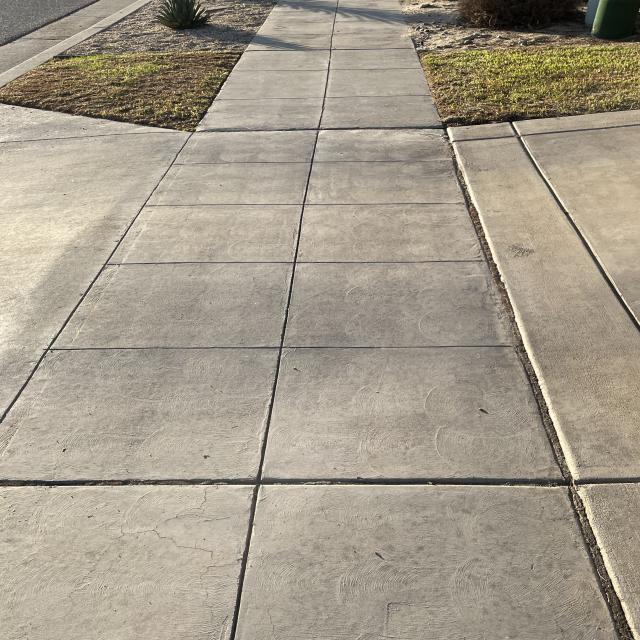curb: (15, 35, 82, 70), (74, 10, 145, 36)
walkway: (15, 404, 558, 636), (91, 286, 497, 425), (159, 185, 465, 298), (199, 122, 447, 205), (231, 72, 428, 144), (271, 15, 408, 69)
